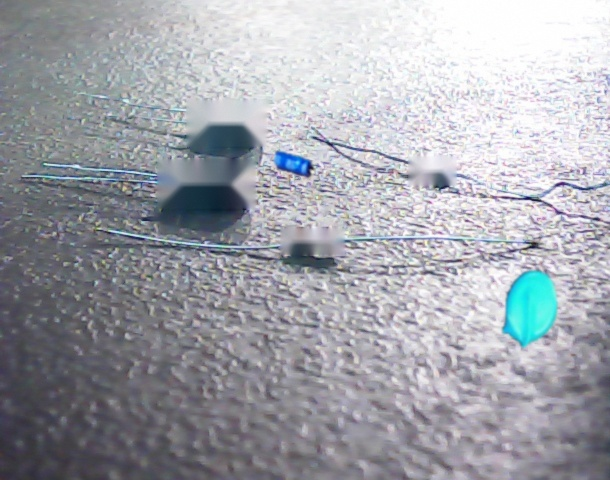capacitor: (502, 271, 557, 347), (274, 150, 315, 178)
